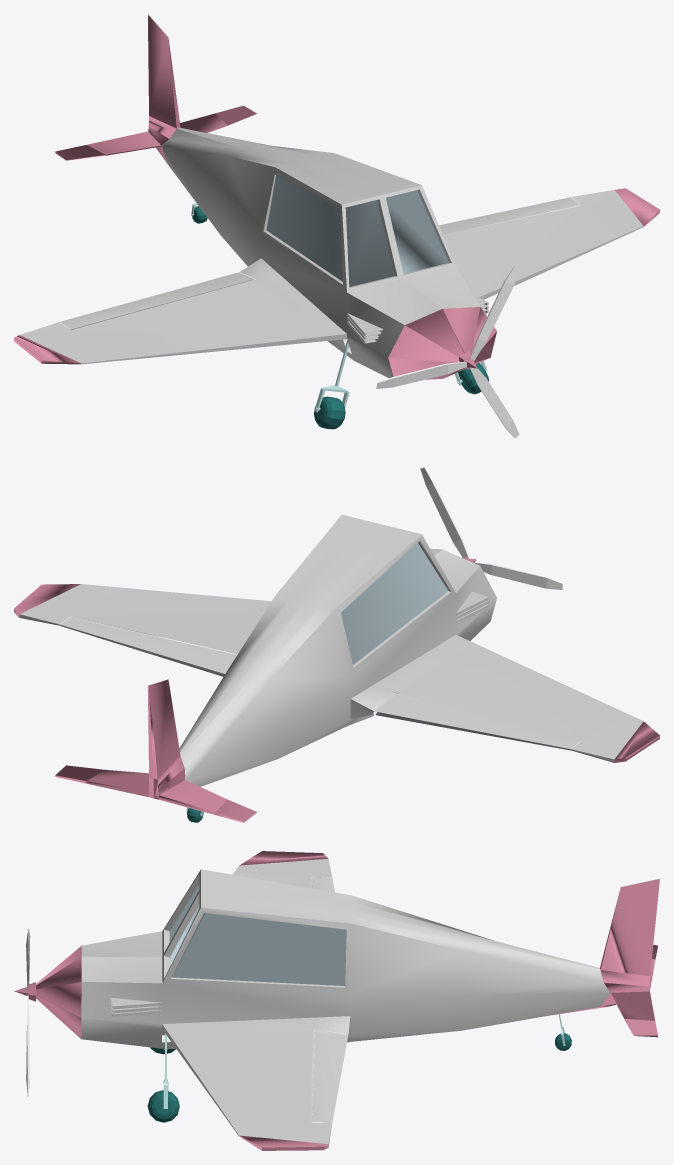
3 views of the same model, one above another, from view 1: azimuth 30°, elevation 25°; view 2: azimuth 150°, elevation 25°; view 3: azimuth 270°, elevation 25° (orthographic).
Visible parts, largest first — view 1: Cube_3, Cube_1, Cube_0, Cube_2, Wheel_4; view 2: Cube_3, Cube_1, Cube_0; view 3: Cube_3, Wheel_2.
Boxes of the visible parts, x1,y1,x2,y2 form: Cube_3: [14, 14, 659, 379]; Cube_1: [469, 266, 519, 360]; Cube_0: [376, 361, 466, 388]; Cube_2: [470, 367, 519, 438]; Wheel_4: [314, 396, 345, 429]; Cube_3: [14, 515, 659, 822]; Cube_1: [420, 467, 469, 558]; Cube_0: [474, 562, 562, 589]; Cube_3: [36, 851, 659, 1150]; Wheel_2: [147, 1090, 179, 1122].
Size of the model in its own units: 869 by 285 by 799.
